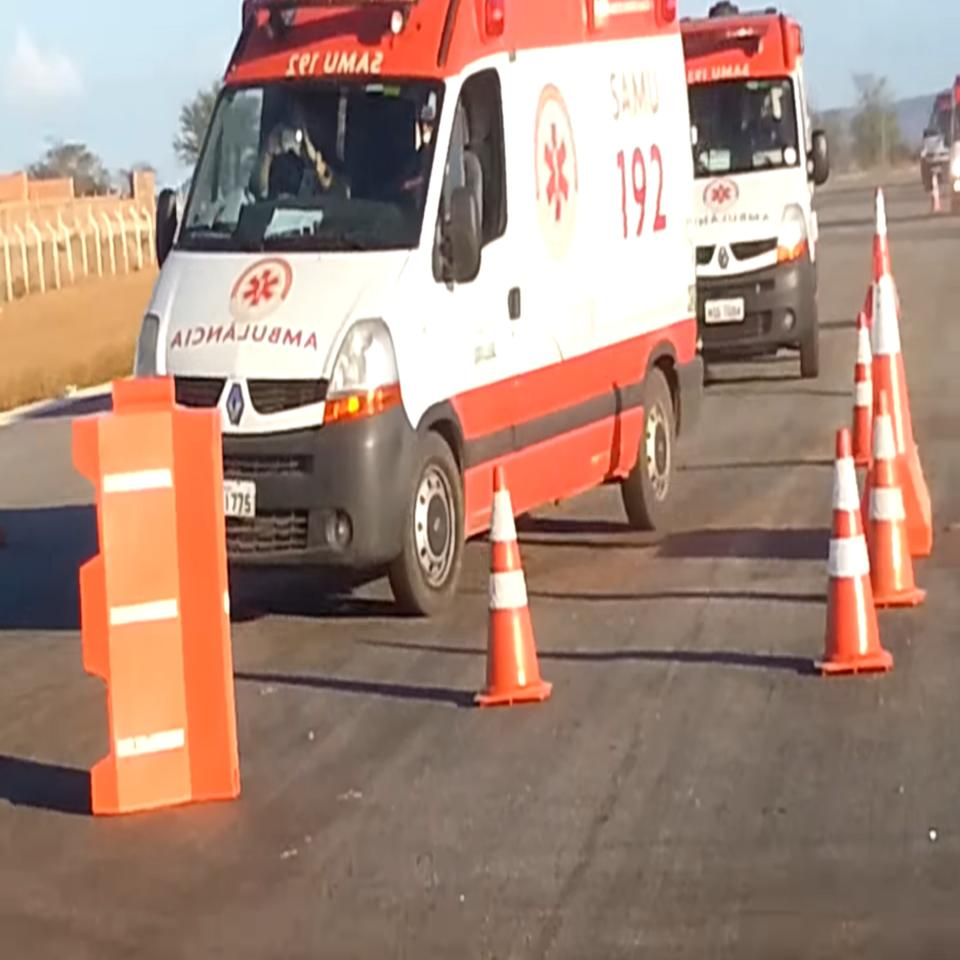bombeiro: (135, 0, 699, 621), (681, 0, 829, 374)
